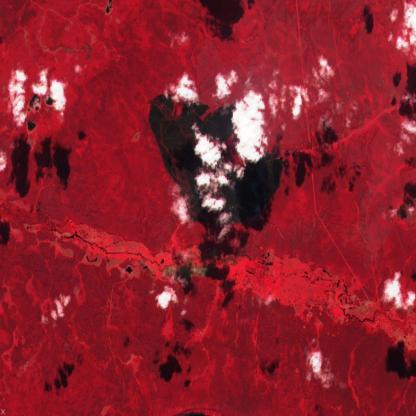fire: (200, 199, 276, 235), (25, 72, 48, 115)
